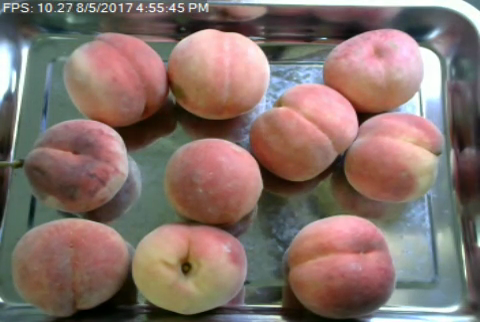Peach: (284, 215, 396, 318), (12, 216, 127, 316), (134, 222, 246, 316), (249, 84, 358, 180), (25, 118, 129, 213), (64, 32, 168, 127), (168, 26, 270, 120), (322, 25, 424, 114), (342, 112, 443, 200), (163, 137, 262, 224)
